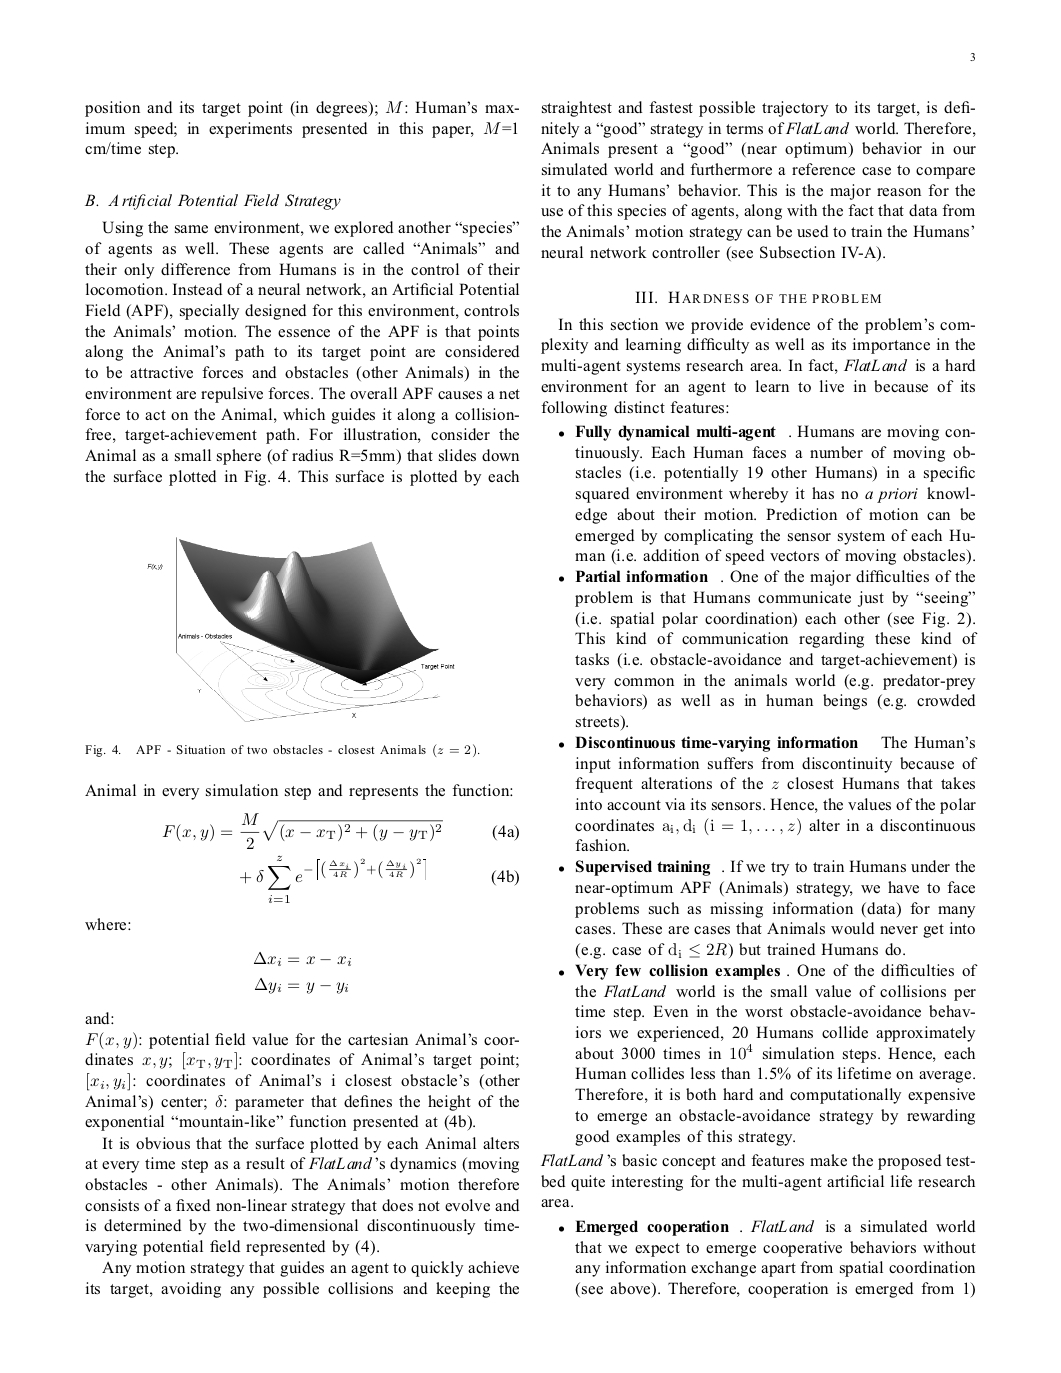figure: (147, 536, 454, 722)
formula: (162, 812, 518, 849), (240, 855, 518, 902), (255, 977, 348, 994), (254, 951, 351, 966)
